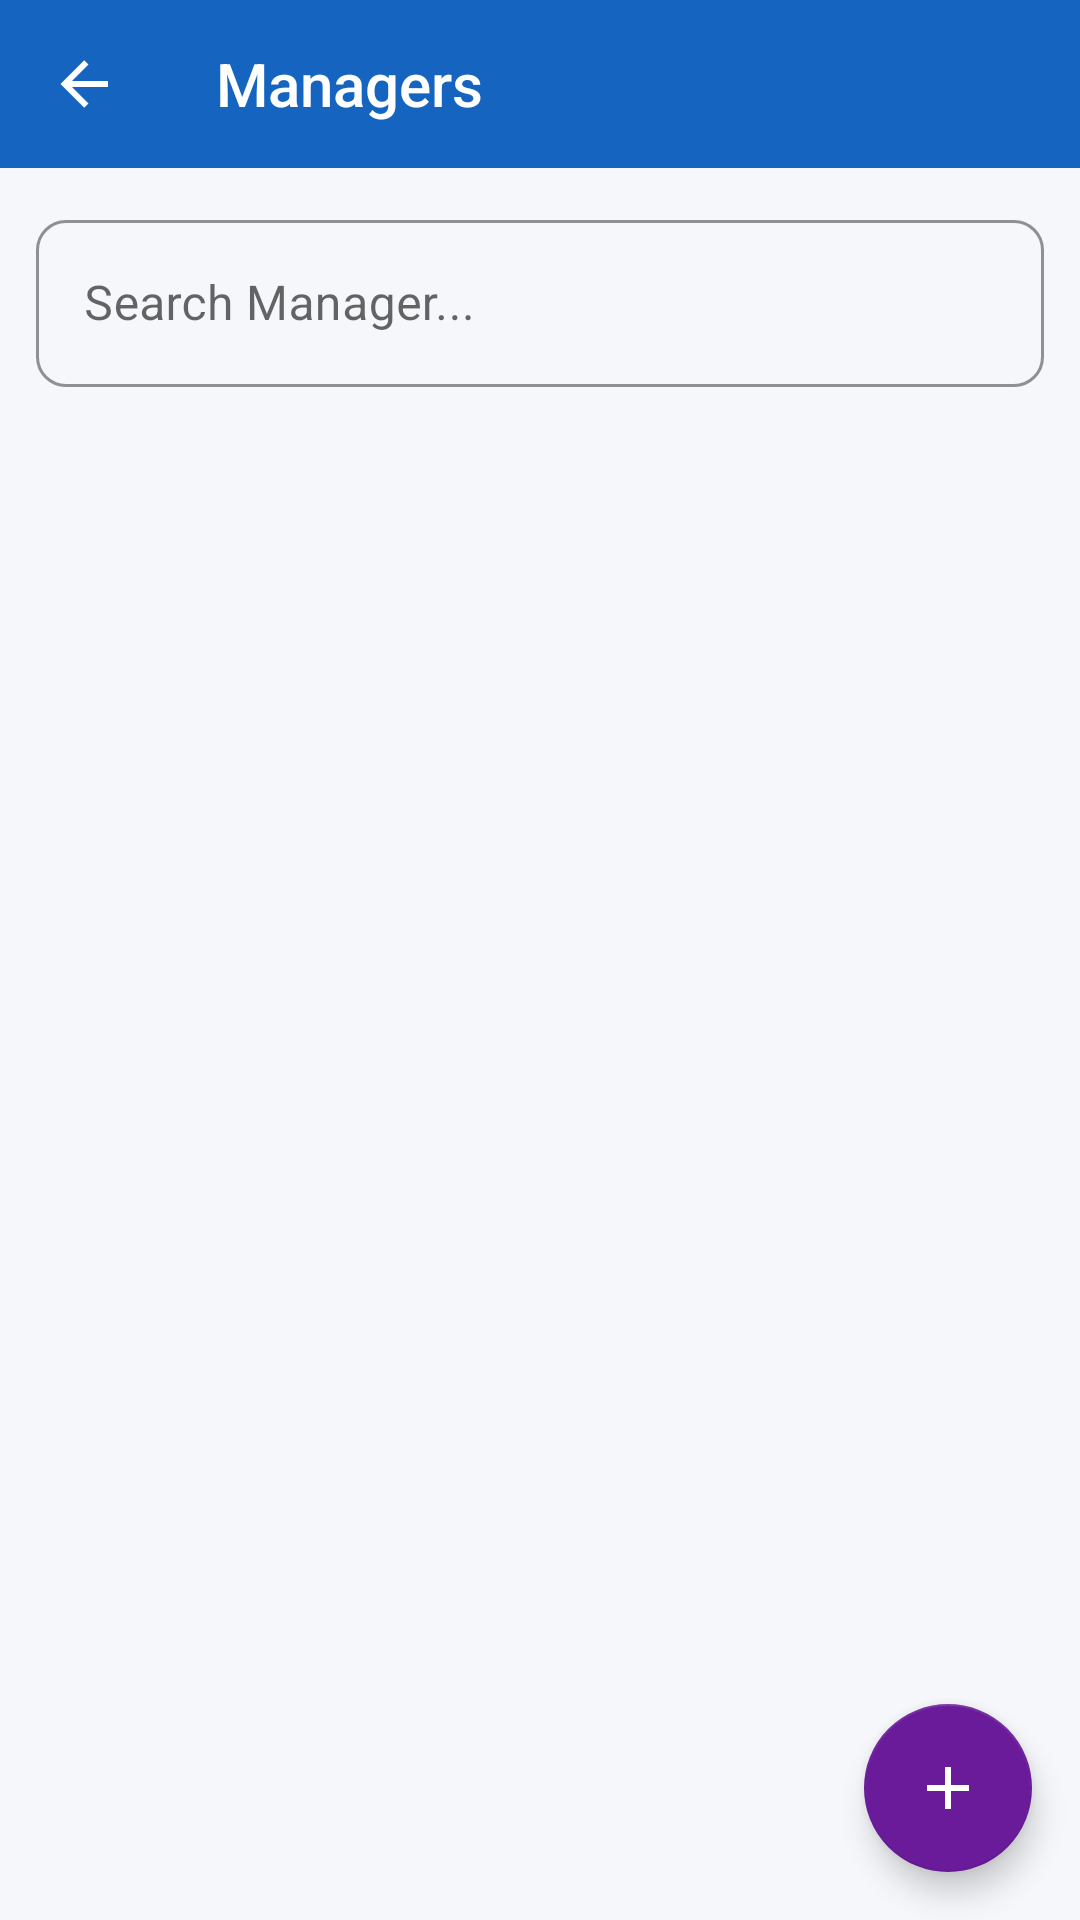

Icon bounding boxes for this 1080 × 1920 phone screenshot, format (x1, y1, x2, y2):
Add Manager: (864, 1704, 1032, 1872)
